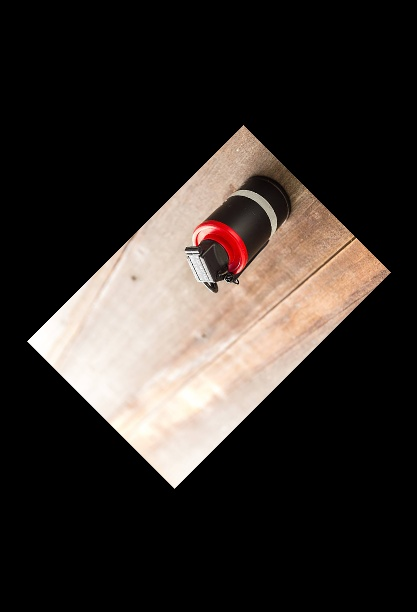e1: (183, 171, 294, 299)
